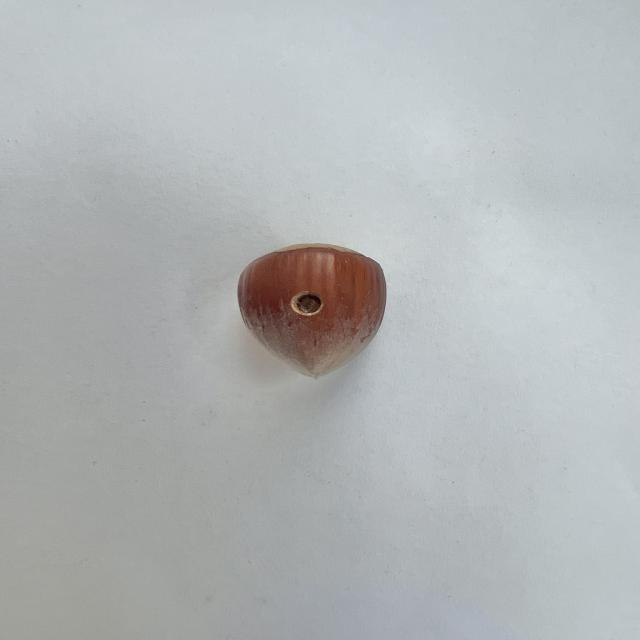pistachio: (236, 230, 386, 380)
